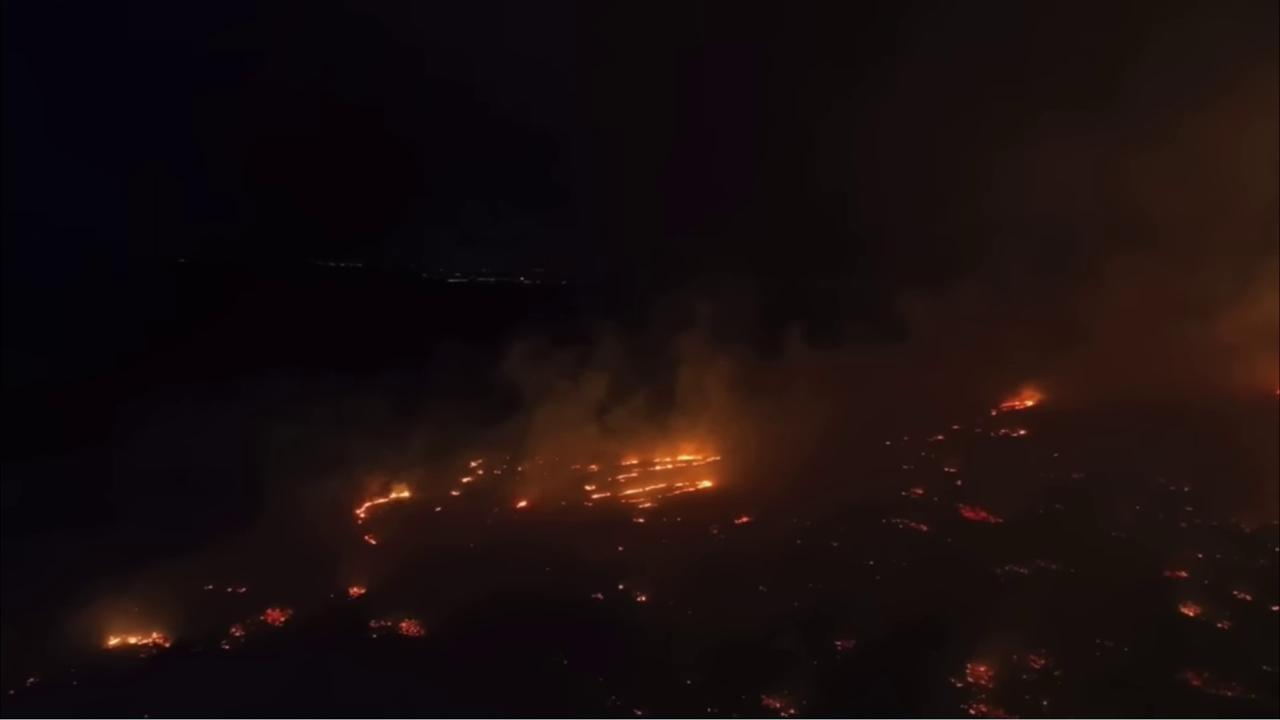fire: (582, 452, 722, 525), (946, 659, 1011, 718), (1177, 667, 1258, 702), (352, 487, 411, 525), (367, 612, 428, 643), (102, 629, 173, 652), (757, 687, 803, 718), (955, 501, 1006, 525), (988, 396, 1036, 418), (256, 605, 296, 628), (888, 516, 930, 535), (221, 624, 247, 652), (1175, 598, 1203, 620), (1024, 649, 1047, 671), (992, 427, 1029, 439), (901, 484, 925, 502), (347, 582, 369, 600), (1162, 568, 1190, 580), (1231, 589, 1254, 602), (731, 514, 755, 525), (512, 498, 529, 512), (362, 533, 379, 546), (469, 456, 485, 469), (941, 465, 959, 474), (460, 473, 473, 485), (635, 593, 648, 603), (448, 489, 462, 498), (434, 504, 443, 514), (1269, 604, 1280, 612), (954, 479, 963, 488), (950, 424, 961, 431), (1274, 386, 1280, 398), (478, 468, 485, 477), (937, 434, 946, 441)
smoke: (54, 0, 1280, 674)
